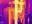Hotspot: (14, 0, 24, 23)
